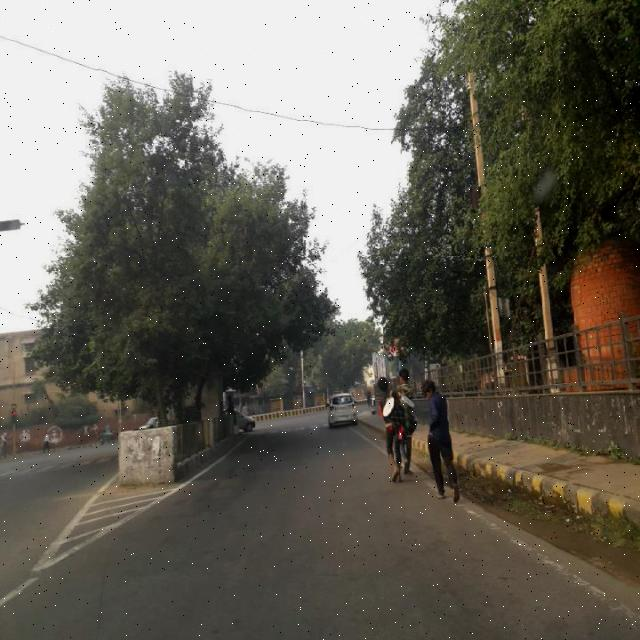D44: (525, 546, 639, 626), (457, 504, 527, 546)
